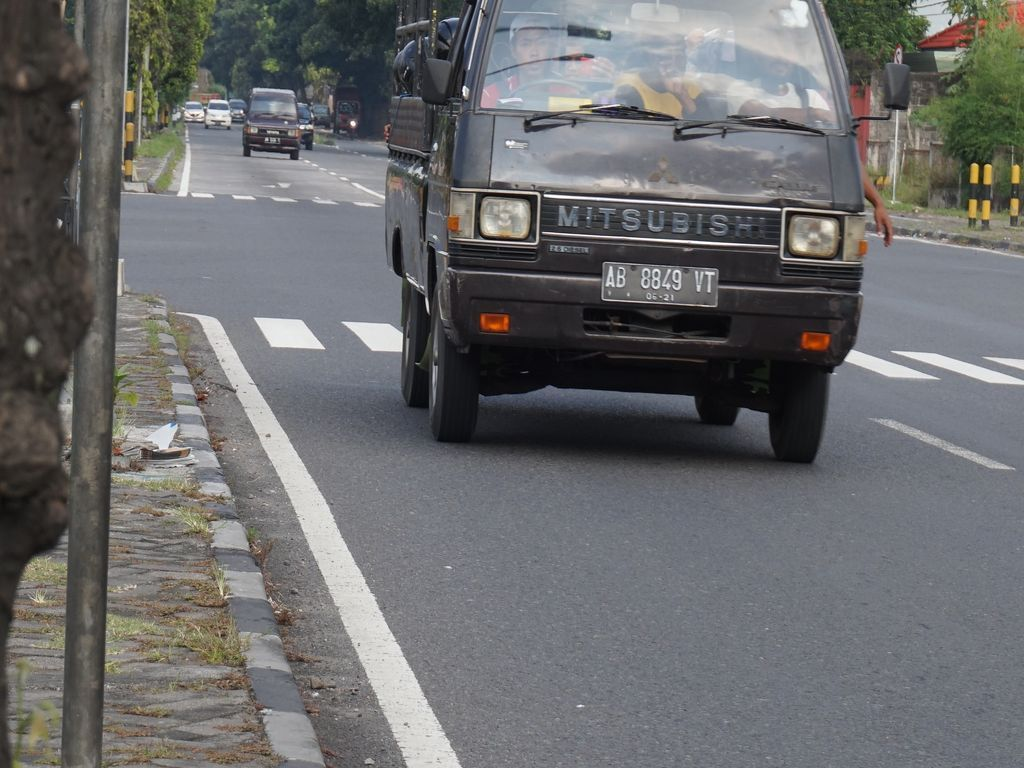plate: (605, 267, 716, 302)
